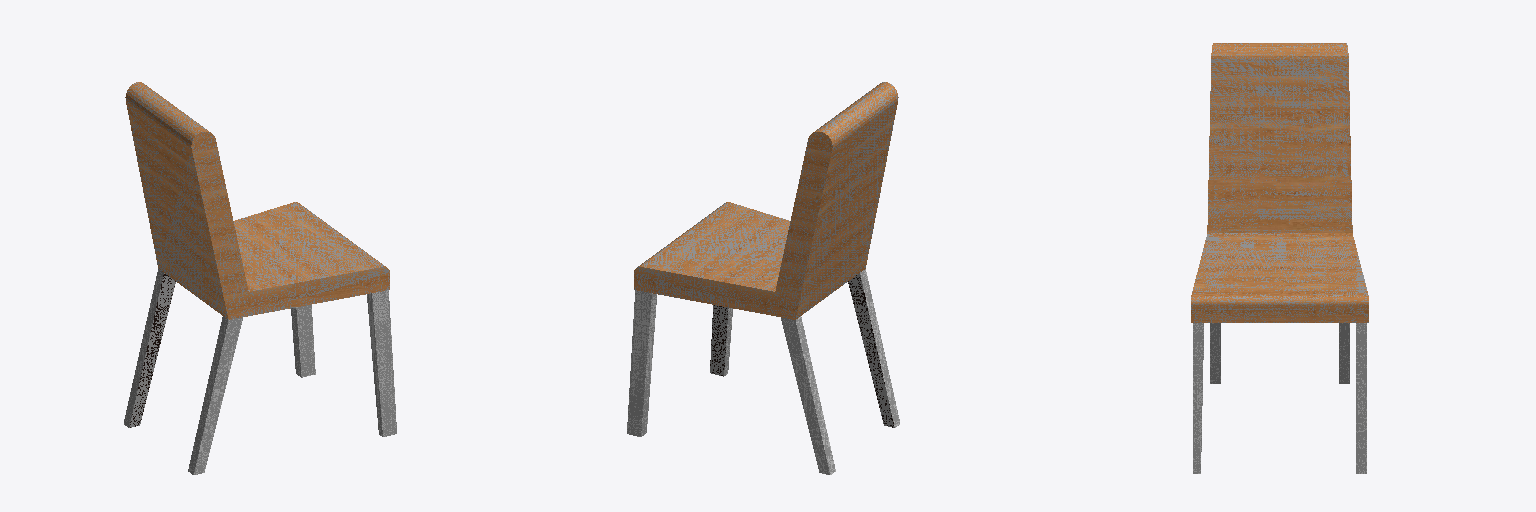
3 views of the same model, side by side, from view 1: azimuth 30°, elevation 25°; view 2: azimuth 150°, elevation 25°; view 3: azimuth 270°, elevation 25° (orthographic).
Parts seen in each view (by area): view 1: mesh5_mesh5-geometry, mesh4_mesh4-geometry, mesh3_mesh3-geometry, mesh1_mesh1-geometry, mesh2_mesh2-geometry; view 2: mesh5_mesh5-geometry, mesh2_mesh2-geometry, mesh1_mesh1-geometry, mesh4_mesh4-geometry, mesh3_mesh3-geometry; view 3: mesh5_mesh5-geometry, mesh2_mesh2-geometry, mesh3_mesh3-geometry, mesh4_mesh4-geometry, mesh1_mesh1-geometry.
Boxes of the visible parts, x1,y1,x2,y2 form: mesh5_mesh5-geometry: [125, 82, 389, 319]; mesh4_mesh4-geometry: [188, 316, 242, 474]; mesh3_mesh3-geometry: [367, 290, 396, 436]; mesh1_mesh1-geometry: [124, 269, 175, 427]; mesh2_mesh2-geometry: [291, 305, 315, 377]; mesh5_mesh5-geometry: [634, 82, 898, 319]; mesh2_mesh2-geometry: [627, 290, 656, 436]; mesh1_mesh1-geometry: [781, 316, 835, 474]; mesh4_mesh4-geometry: [848, 269, 899, 427]; mesh3_mesh3-geometry: [710, 305, 732, 376]; mesh5_mesh5-geometry: [1191, 43, 1368, 322]; mesh2_mesh2-geometry: [1356, 323, 1366, 473]; mesh3_mesh3-geometry: [1193, 323, 1203, 473]; mesh4_mesh4-geometry: [1210, 323, 1220, 383]; mesh1_mesh1-geometry: [1339, 323, 1349, 383].
Bounding box in the file's own units: 0.477 × 0.7935 × 0.3781.
Materials: 5 (1 with a texture image).